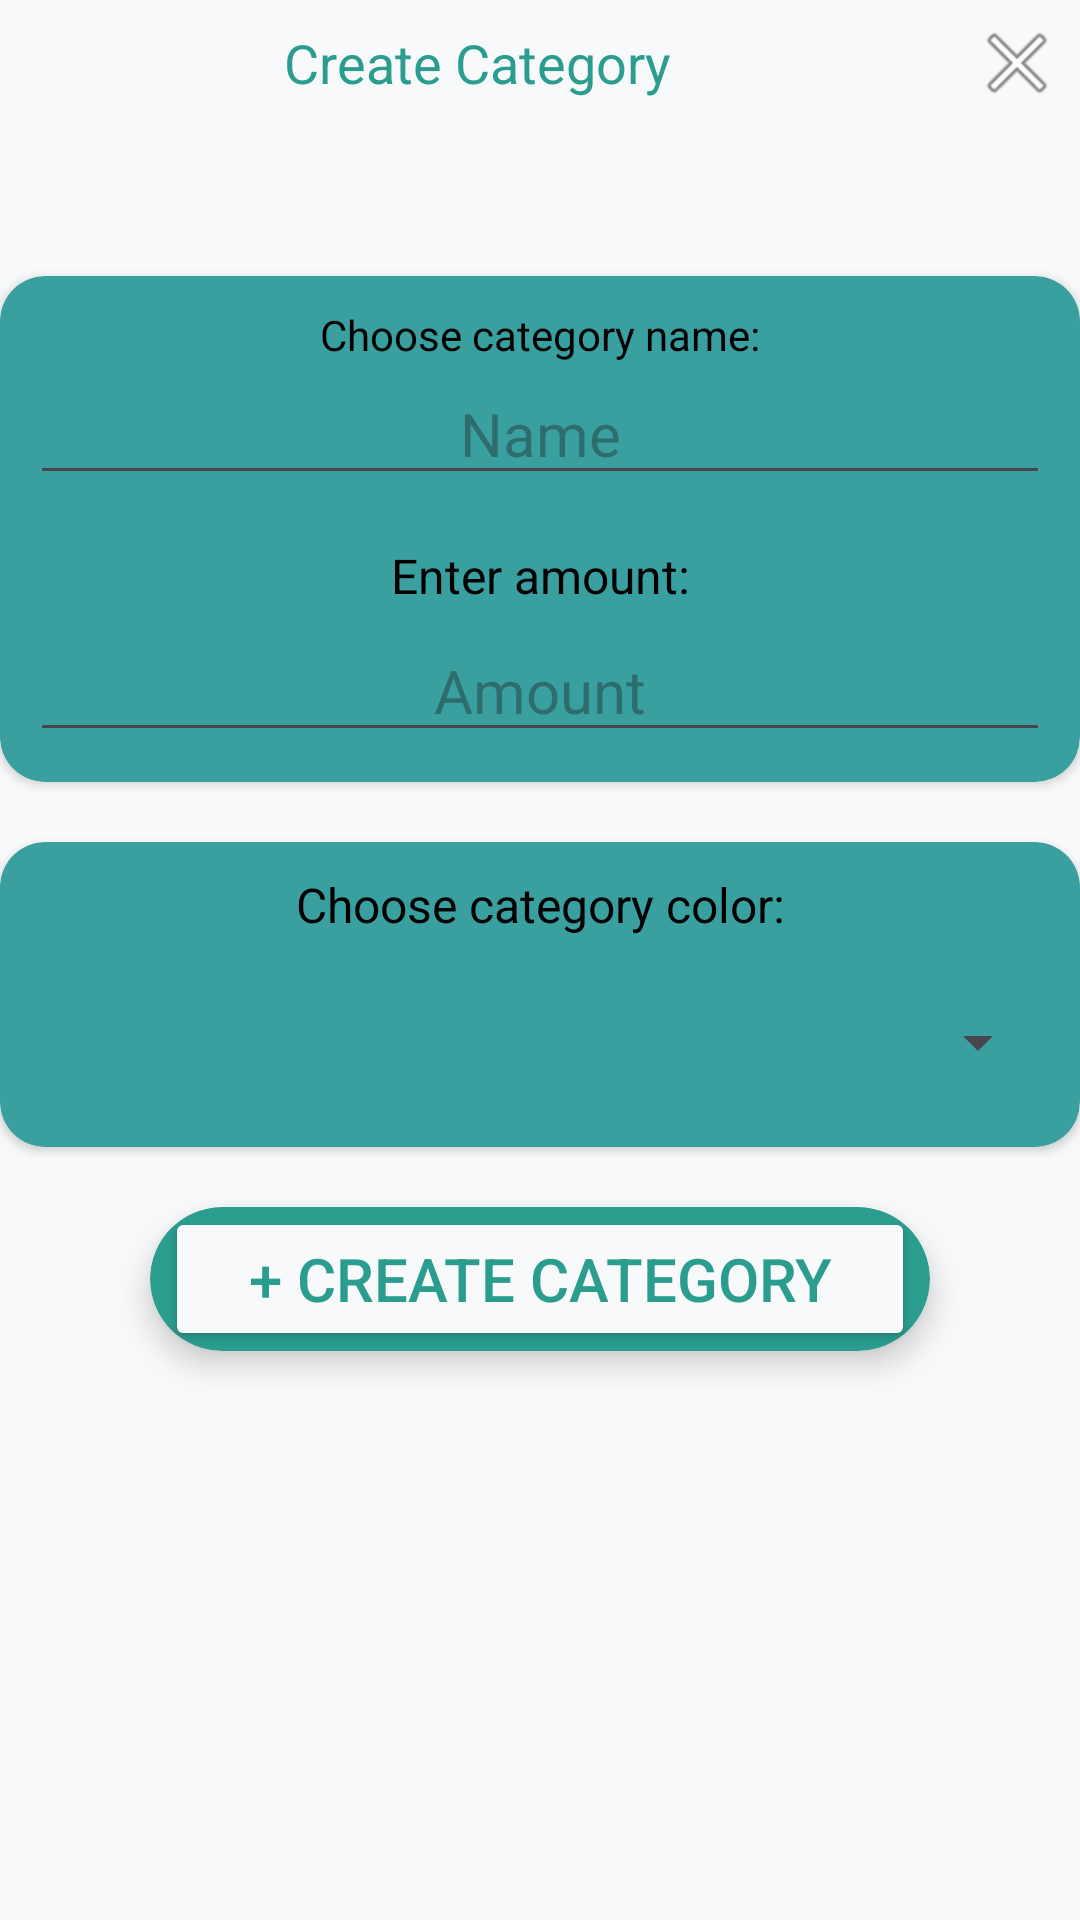

Icons on this 1080w x 1920h Android screen, each with the point to tap as point (x, y):
Exit: point (1017, 63)
